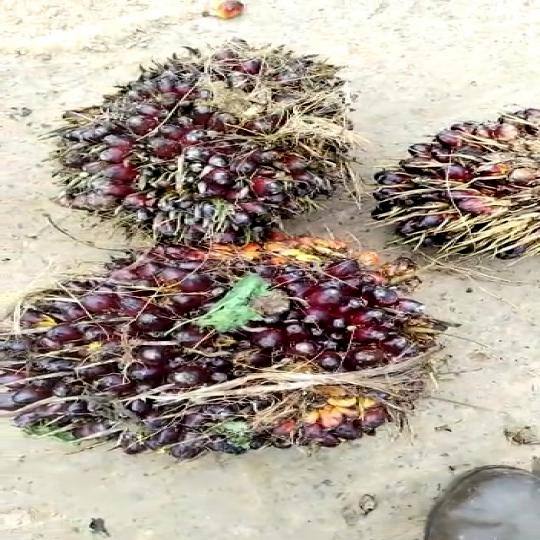kurang masak: (0, 246, 436, 468), (50, 46, 361, 230), (363, 117, 540, 253)
